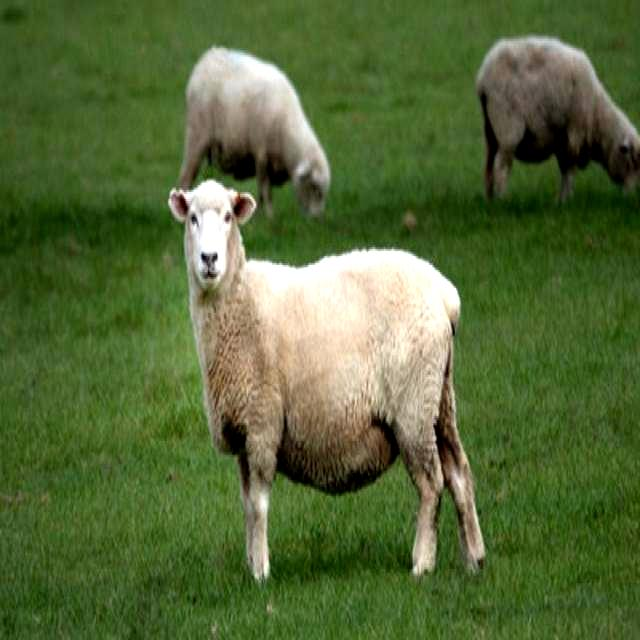sheep: (168, 178, 484, 591), (478, 38, 639, 218), (181, 51, 329, 224)
